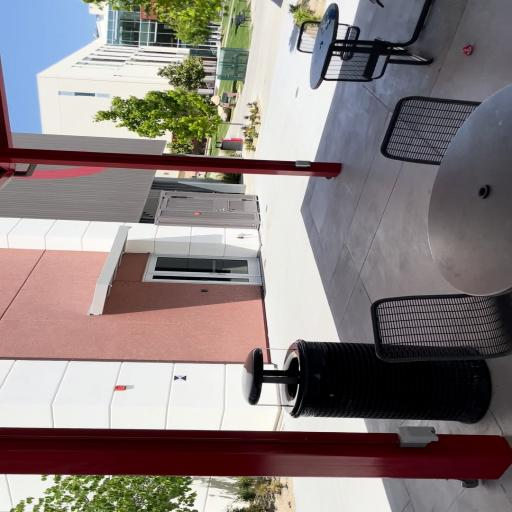target2: (174, 375, 187, 381)
